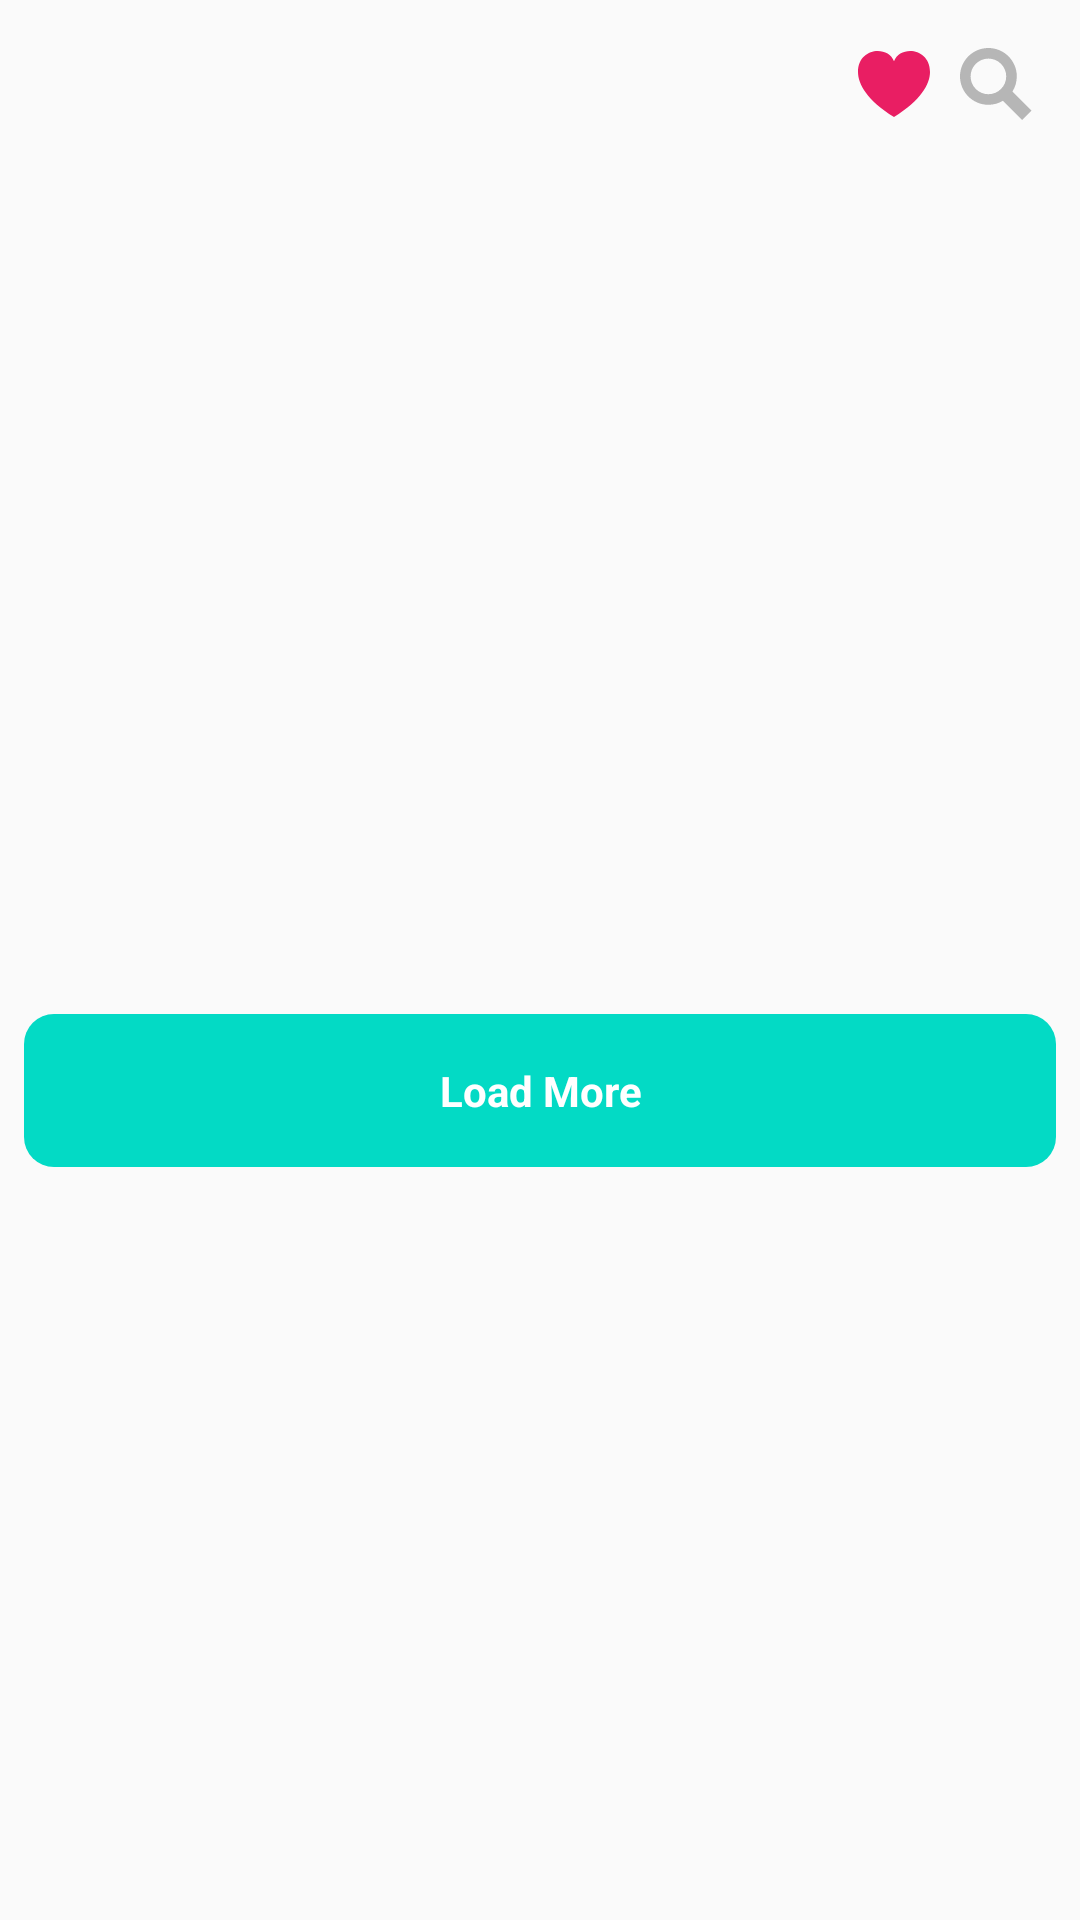

Where icons sit on this 1080*1920 app screen, as [x1=x1, y1=y1, x2=x2, y2=y2]:
favorite: [x1=858, y1=51, x2=930, y2=117]
search: [x1=960, y1=48, x2=1031, y2=120]
